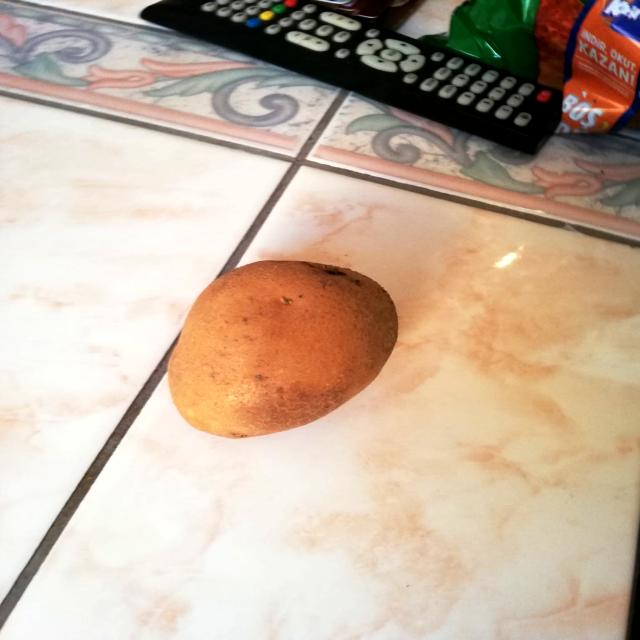potato: (156, 251, 412, 445)
